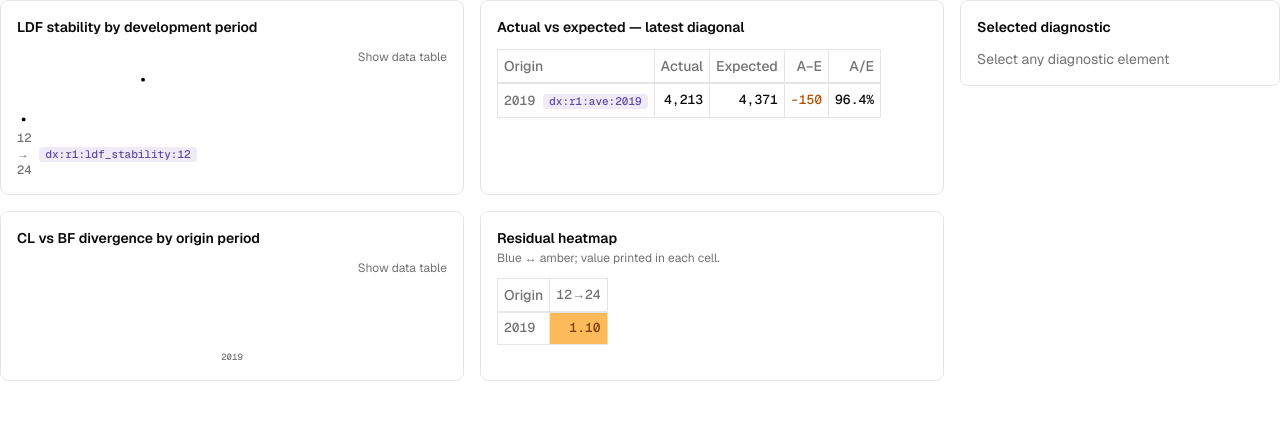
DiagnosticContextRail + selection (Story 4.6) › "cited by N report claims" backlink › N === 1 → singular 'Cited by 1 report claim.'
This screenshot has width=1280, height=429.
Click the button "dx:r1:ave:2019" at x=595, y=102, box [543,94,648,109]
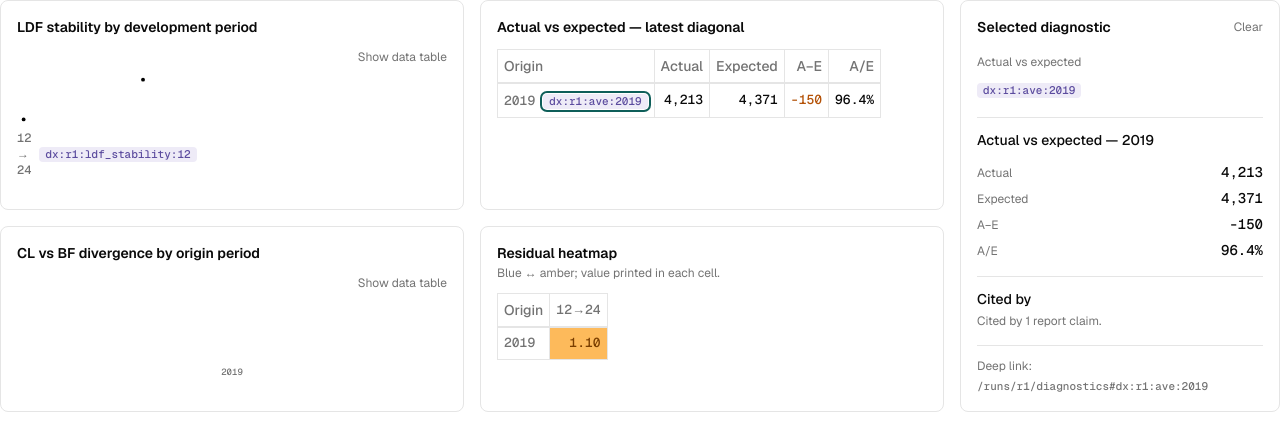
expect the text "Cited by 1 report claim." is shown: met, box [977,313,1101,329]
